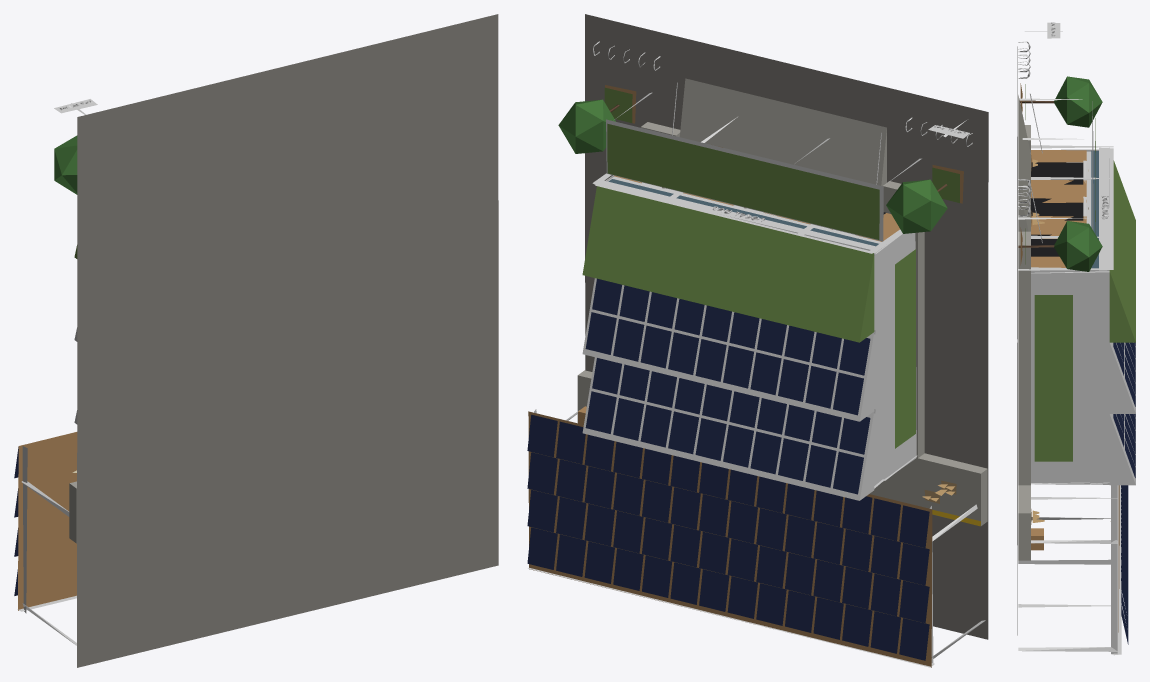
The model's file is SolarpunkLocalHub01_LOD1.fbx.
3 views of the same model, side by side, from view 1: azimuth 30°, elevation 25°; view 2: azimuth 150°, elevation 25°; view 3: azimuth 270°, elevation 25° (orthographic). The views are drawn at different scales.
Parts seen in each view (by area): view 1: SolarpunkLocalHub01_LOD1; view 2: SolarpunkLocalHub01_LOD1; view 3: SolarpunkLocalHub01_LOD1.
Part boxes in pixels (x1,y1,x2,y2): SolarpunkLocalHub01_LOD1: [14, 14, 498, 667]; SolarpunkLocalHub01_LOD1: [527, 14, 988, 667]; SolarpunkLocalHub01_LOD1: [1017, 22, 1135, 655].
Bounding box in the file's own units: 3200 × 4000 × 905.
1 material, 1 textured.
